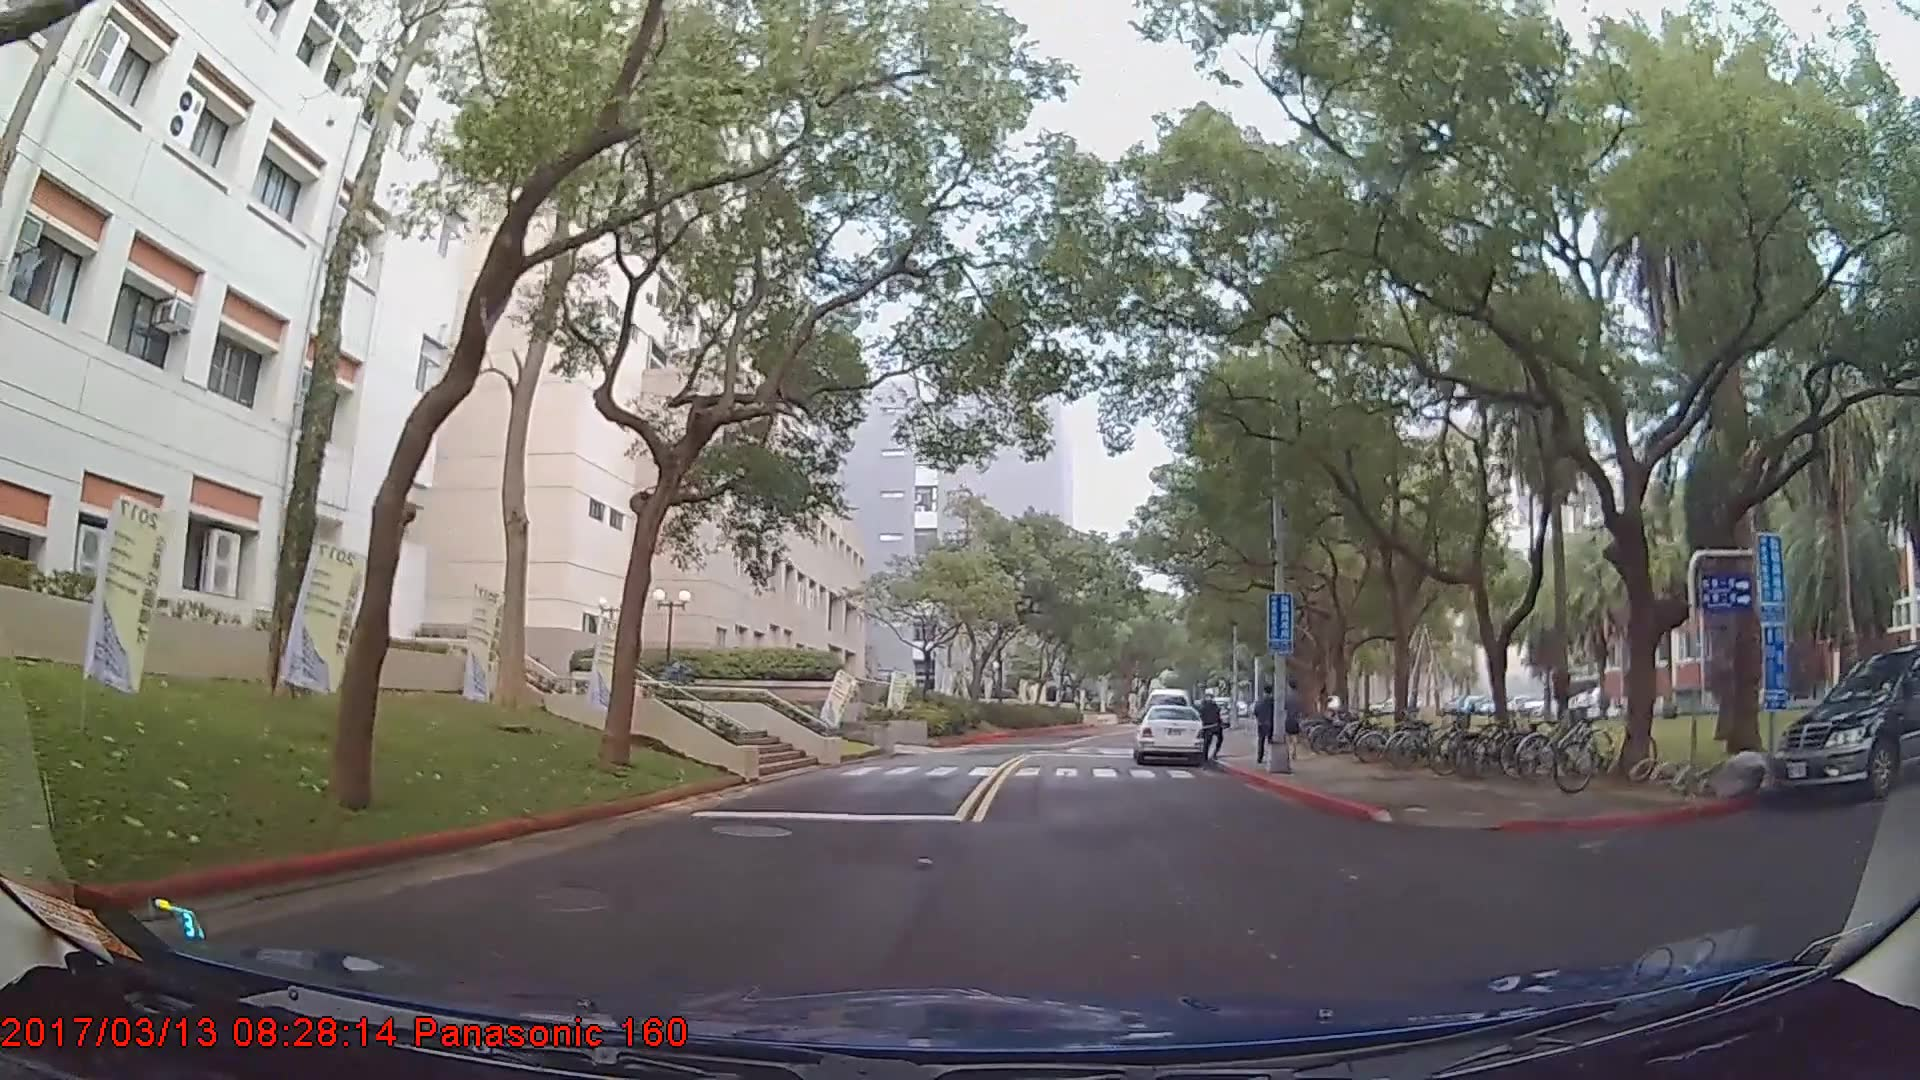pedestrian: (1253, 684, 1284, 762), (1199, 688, 1225, 764)
vehicle: (1776, 644, 1920, 800), (1131, 701, 1208, 766)
